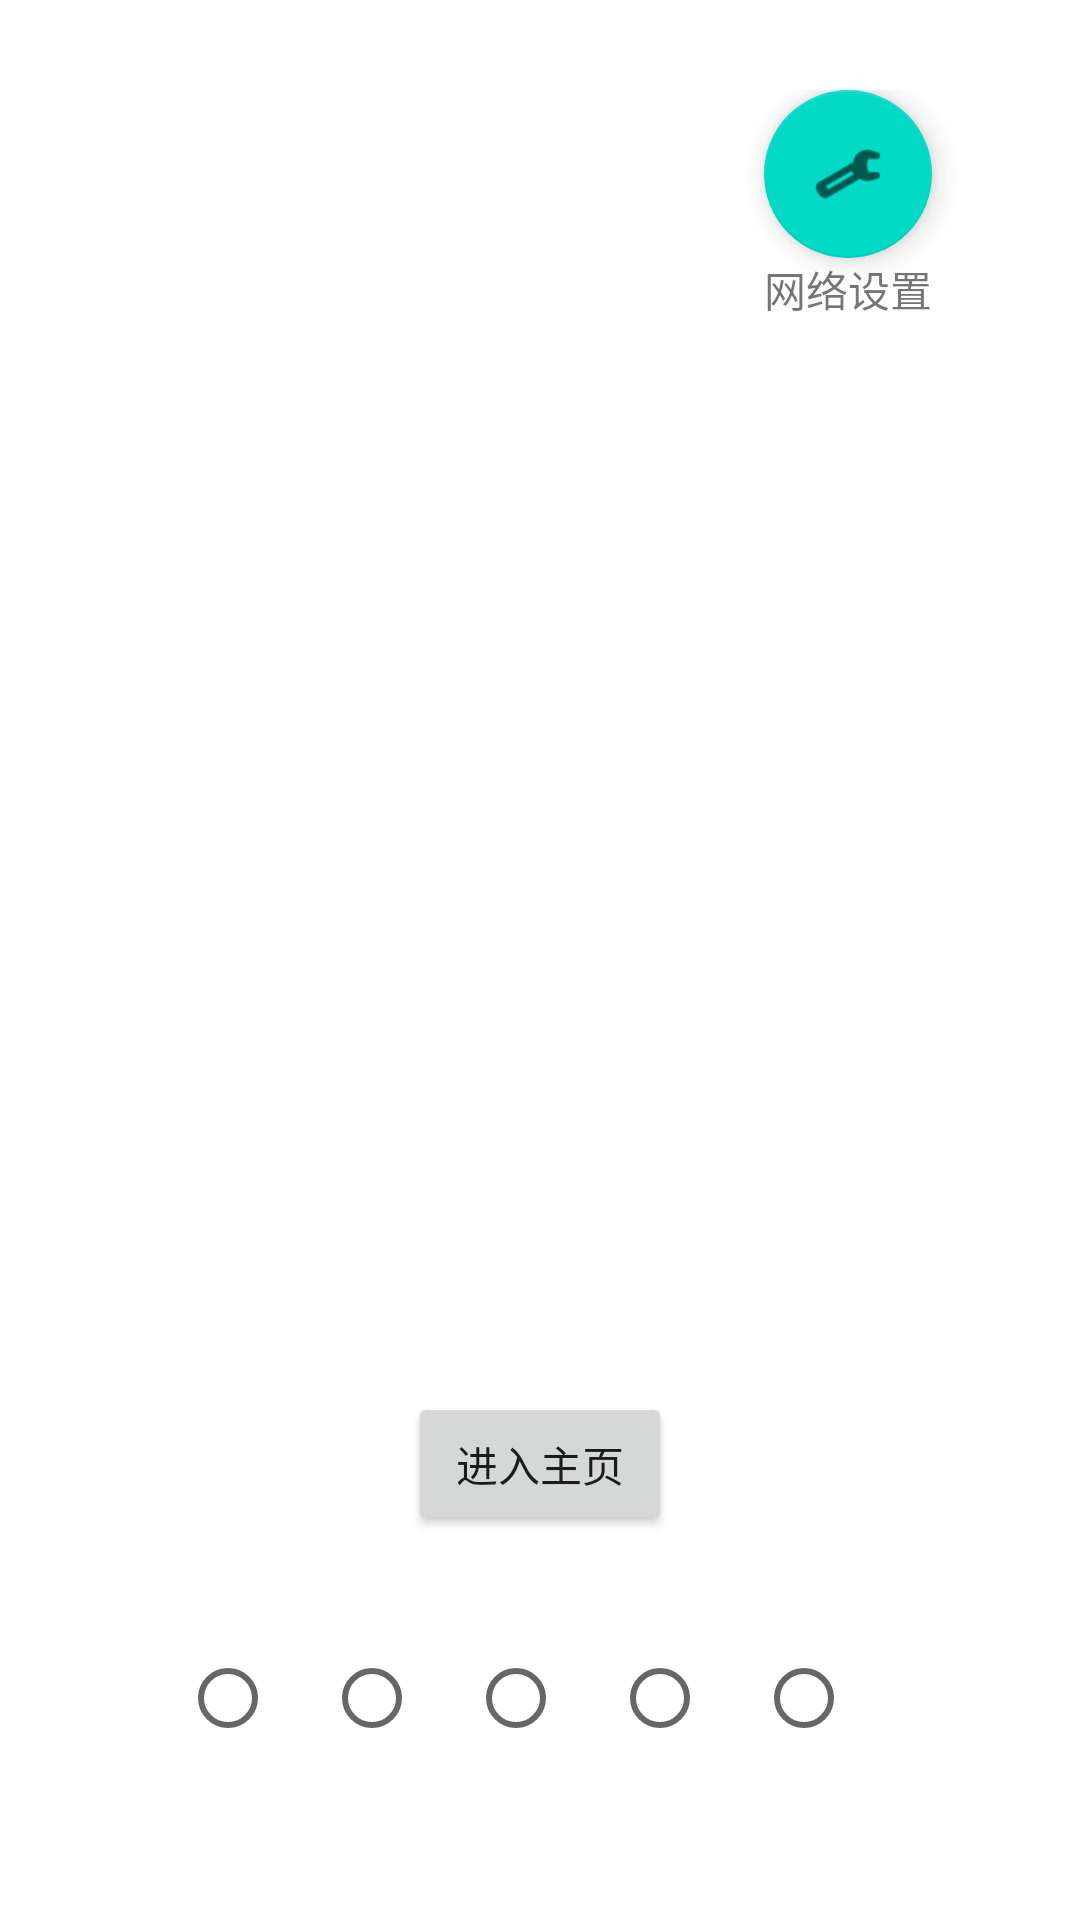

Named icons in this screenshot (1080px×1920px) and their bounding boxes, bbox=(x1, y1, x2, y2):
manage: bbox=(764, 90, 932, 258)
